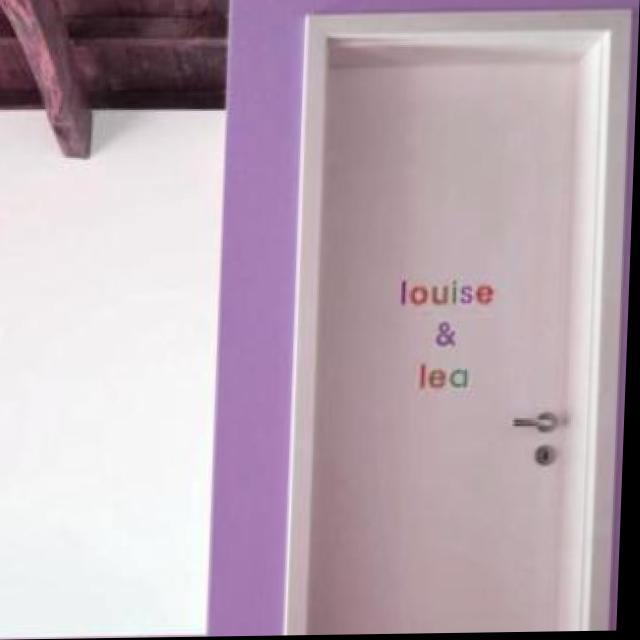door_handle: (510, 415, 565, 438)
